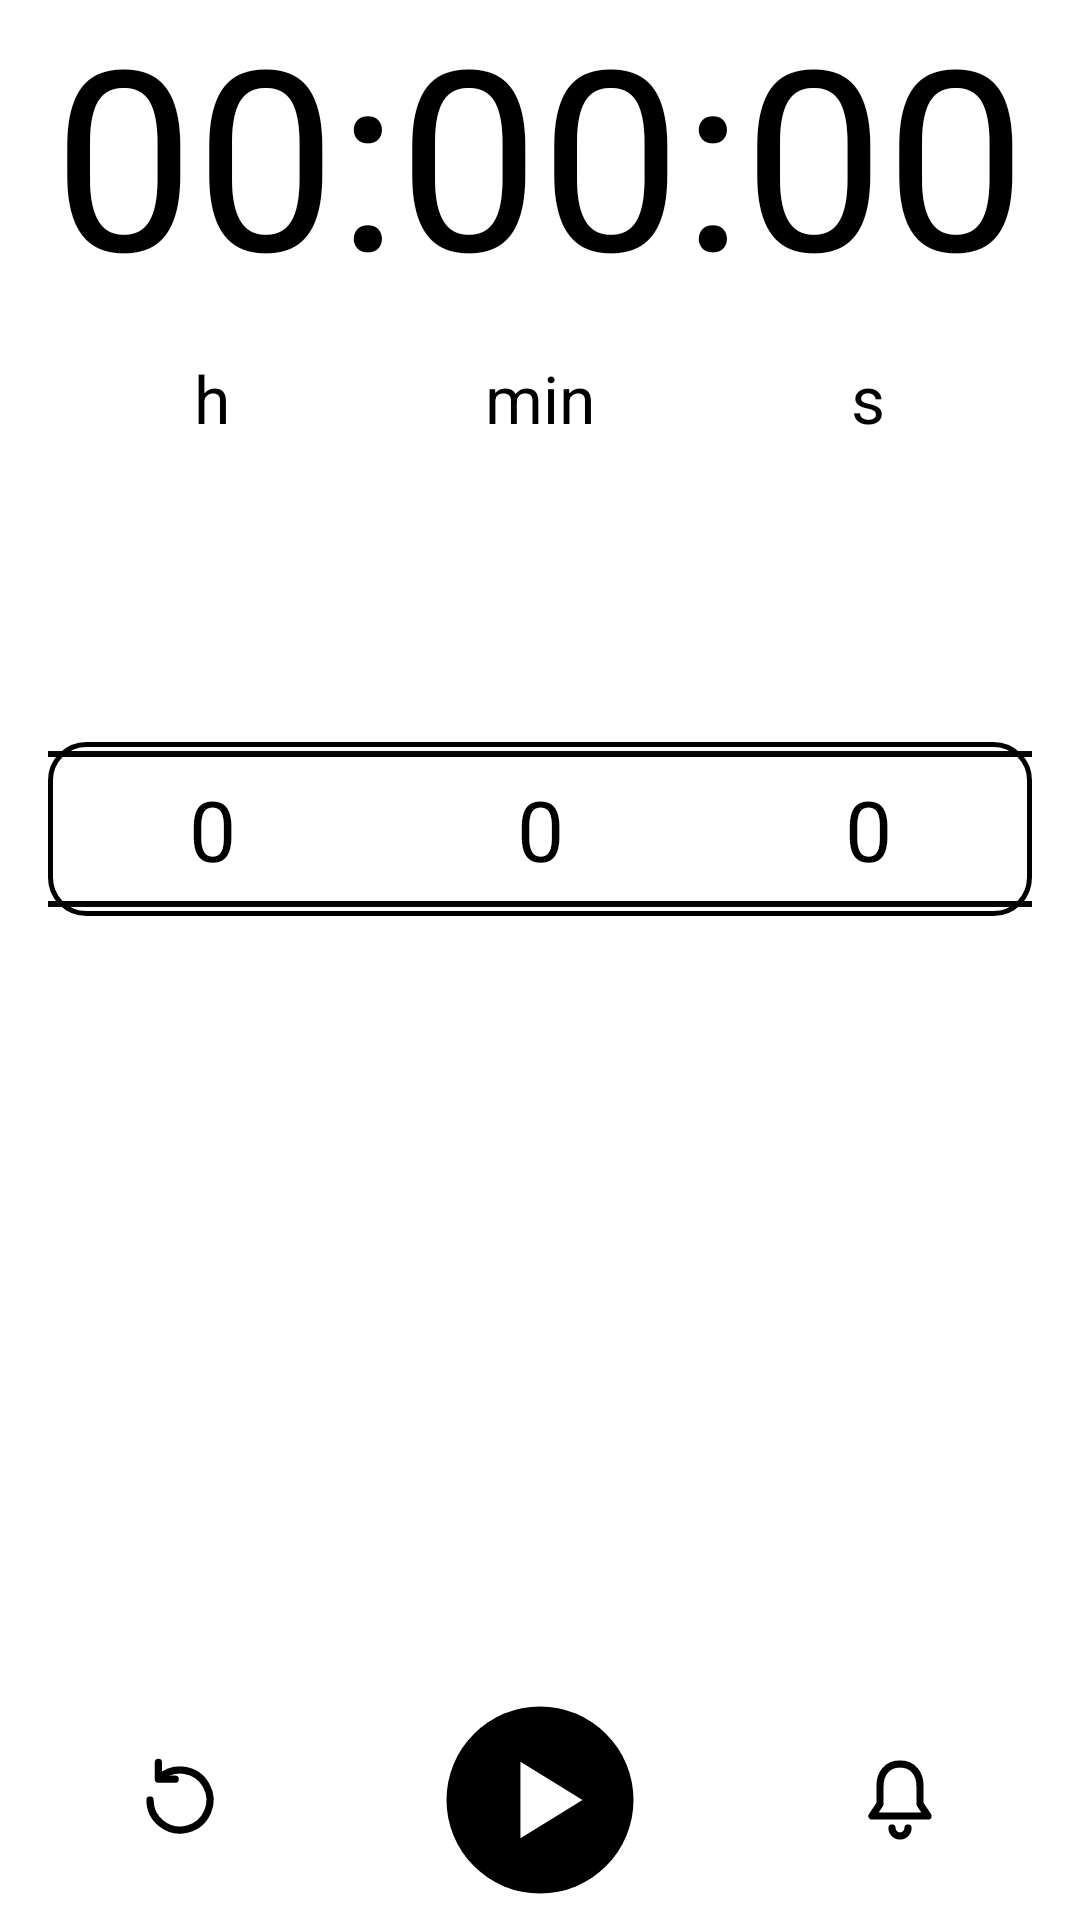

Icon bounding boxes for this 1080w x 1920h phone screenshot, format [x1=x1, y1=y1, x2=x2, y2=y2]:
Démarrer: [x1=446, y1=1706, x2=634, y2=1894]
Réinitialiser: [x1=146, y1=1758, x2=214, y2=1834]
Son du minuteur: [x1=868, y1=1760, x2=932, y2=1840]
